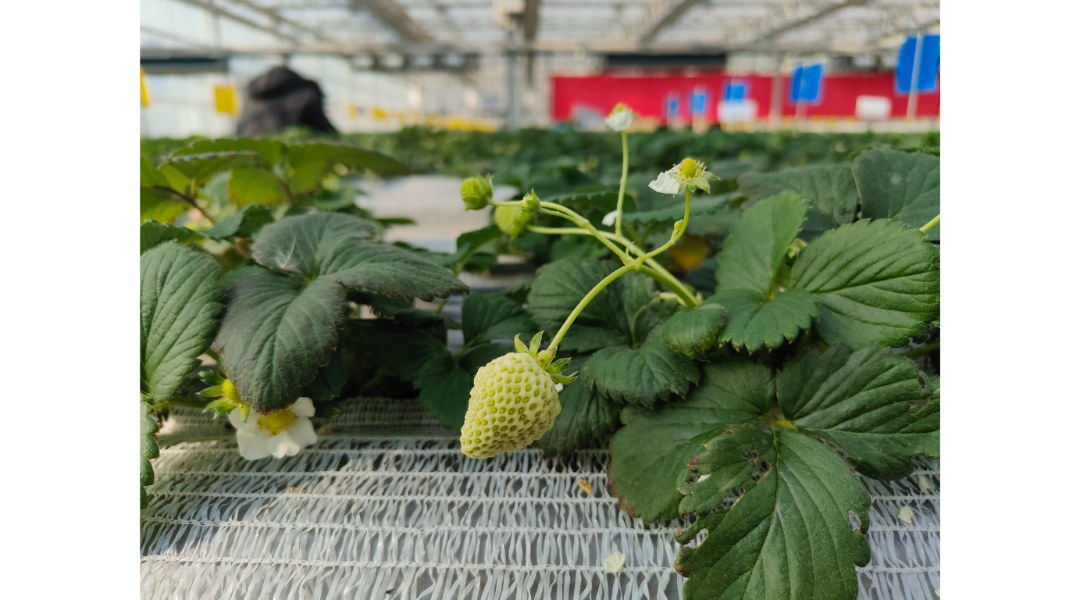berry: (452, 340, 575, 467), (487, 200, 535, 233), (454, 174, 493, 205), (606, 108, 642, 137)
flower: (219, 386, 326, 475), (652, 158, 724, 200)
strain: (543, 267, 632, 372), (615, 132, 630, 234)
